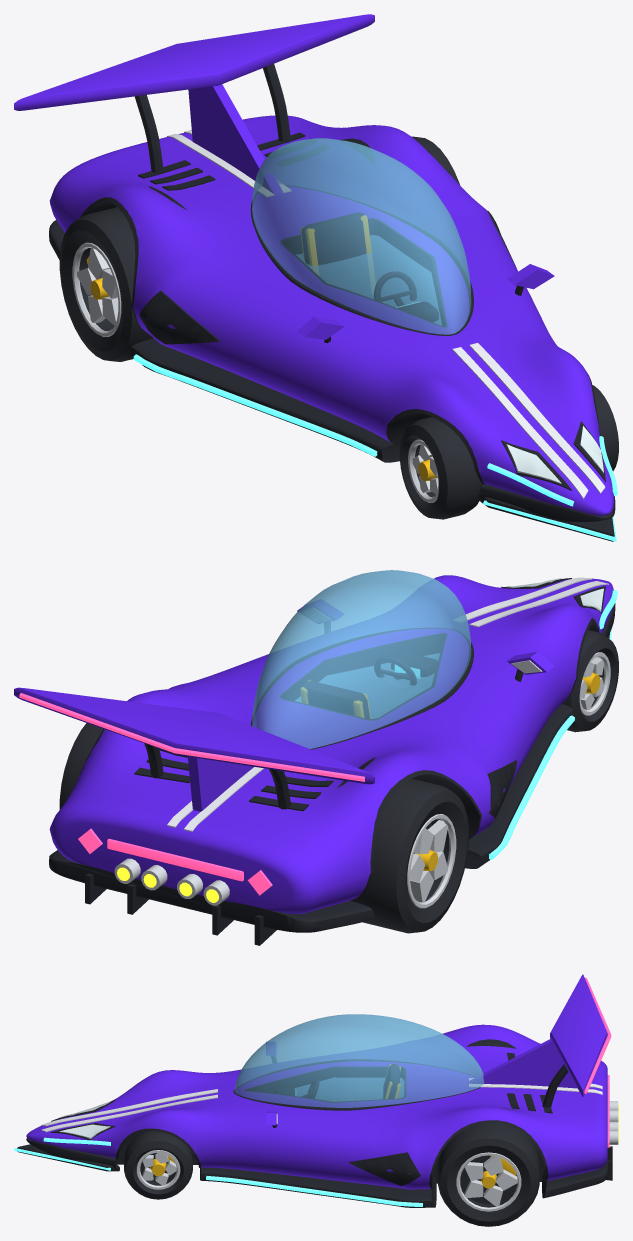
File: Deltoid.fbx
3 renders of one model, top to bottom at view 1: azimuth 30°, elevation 25°; view 2: azimuth 150°, elevation 25°; view 3: azimuth 270°, elevation 25°, orthographic. The views are drawn at different scales.
Visible parts, largest first — view 1: Deltoid__Body__6A2BFFSP, Deltoid__Canopy__7FD0FFGLT35, Deltoid__Aero__6A2BFFSP, Deltoid__Floor__23262ESP, Deltoid__TireRR__2A2D34SP, Deltoid__Trim__23262ESP, Deltoid__TireFR__2A2D34SP, Deltoid__Stripe__F4F8FFSP, Deltoid__Frame__23262ESP, Deltoid__Interior__23262ESP, Deltoid__Neon__38F2FFNE, Deltoid__RimRR__D9DEE6SP (+5 smaller); view 2: Deltoid__Body__6A2BFFSP, Deltoid__Canopy__7FD0FFGLT35, Deltoid__Aero__6A2BFFSP, Deltoid__TireRR__2A2D34SP, Deltoid__Floor__23262ESP, Deltoid__Trim__23262ESP, Deltoid__Tail__FF2D55NE, Deltoid__RimRR__D9DEE6SP, Deltoid__Cockpit__23262ESP, Deltoid__Stripe__F4F8FFSP, Deltoid__Interior__23262ESP, Deltoid__Frame__23262ESP (+7 smaller); view 3: Deltoid__Body__6A2BFFSP, Deltoid__Canopy__7FD0FFGLT35, Deltoid__Aero__6A2BFFSP, Deltoid__TireRL__2A2D34SP, Deltoid__Floor__23262ESP, Deltoid__Trim__23262ESP, Deltoid__TireFL__2A2D34SP, Deltoid__RimRL__D9DEE6SP, Deltoid__Stripe__F4F8FFSP, Deltoid__WheelWell__23262ESP, Deltoid__Cockpit__23262ESP, Deltoid__Neon__38F2FFNE (+6 smaller).
Boxes of the visible parts, left/top/right/bottom form: Deltoid__Body__6A2BFFSP: left=49, top=115, right=614, bottom=515; Deltoid__Canopy__7FD0FFGLT35: left=252, top=138, right=471, bottom=334; Deltoid__Aero__6A2BFFSP: left=14, top=14, right=554, bottom=339; Deltoid__Floor__23262ESP: left=49, top=220, right=615, bottom=522; Deltoid__TireRR__2A2D34SP: left=59, top=207, right=153, bottom=361; Deltoid__Trim__23262ESP: left=138, top=132, right=614, bottom=541; Deltoid__TireFR__2A2D34SP: left=399, top=417, right=482, bottom=519; Deltoid__Stripe__F4F8FFSP: left=167, top=130, right=605, bottom=499; Deltoid__Frame__23262ESP: left=134, top=64, right=523, bottom=343; Deltoid__Interior__23262ESP: left=301, top=212, right=438, bottom=321; Deltoid__Neon__38F2FFNE: left=133, top=302, right=617, bottom=541; Deltoid__RimRR__D9DEE6SP: left=72, top=242, right=121, bottom=336; Deltoid__Body__6A2BFFSP: left=49, top=575, right=613, bottom=913; Deltoid__Canopy__7FD0FFGLT35: left=252, top=570, right=471, bottom=748; Deltoid__Aero__6A2BFFSP: left=14, top=607, right=554, bottom=811; Deltoid__TireRR__2A2D34SP: left=350, top=778, right=468, bottom=933; Deltoid__Floor__23262ESP: left=49, top=603, right=615, bottom=932; Deltoid__Trim__23262ESP: left=85, top=578, right=609, bottom=945; Deltoid__Tail__FF2D55NE: left=19, top=693, right=364, bottom=895; Deltoid__RimRR__D9DEE6SP: left=407, top=814, right=456, bottom=908; Deltoid__Cockpit__23262ESP: left=280, top=633, right=446, bottom=720; Deltoid__Stripe__F4F8FFSP: left=167, top=577, right=608, bottom=831; Deltoid__Interior__23262ESP: left=302, top=652, right=437, bottom=718; Deltoid__Frame__23262ESP: left=144, top=628, right=523, bottom=809; Deltoid__Body__6A2BFFSP: left=26, top=1024, right=607, bottom=1189; Deltoid__Canopy__7FD0FFGLT35: left=234, top=1014, right=484, bottom=1107; Deltoid__Aero__6A2BFFSP: left=266, top=974, right=607, bottom=1125; Deltoid__TireRL__2A2D34SP: left=438, top=1123, right=539, bottom=1226; Deltoid__Floor__23262ESP: left=26, top=1138, right=607, bottom=1207; Deltoid__Trim__23262ESP: left=17, top=1052, right=612, bottom=1185; Deltoid__TireFL__2A2D34SP: left=124, top=1131, right=192, bottom=1199; Deltoid__RimRL__D9DEE6SP: left=456, top=1152, right=521, bottom=1211; Deltoid__Stripe__F4F8FFSP: left=41, top=1078, right=602, bottom=1132; Deltoid__WheelWell__23262ESP: left=115, top=1039, right=548, bottom=1189; Deltoid__Cockpit__23262ESP: left=244, top=1067, right=405, bottom=1102; Deltoid__Neon__38F2FFNE: left=14, top=1090, right=422, bottom=1206.
Size of the model in its own units: 8.51 by 5.22 by 18.31.
